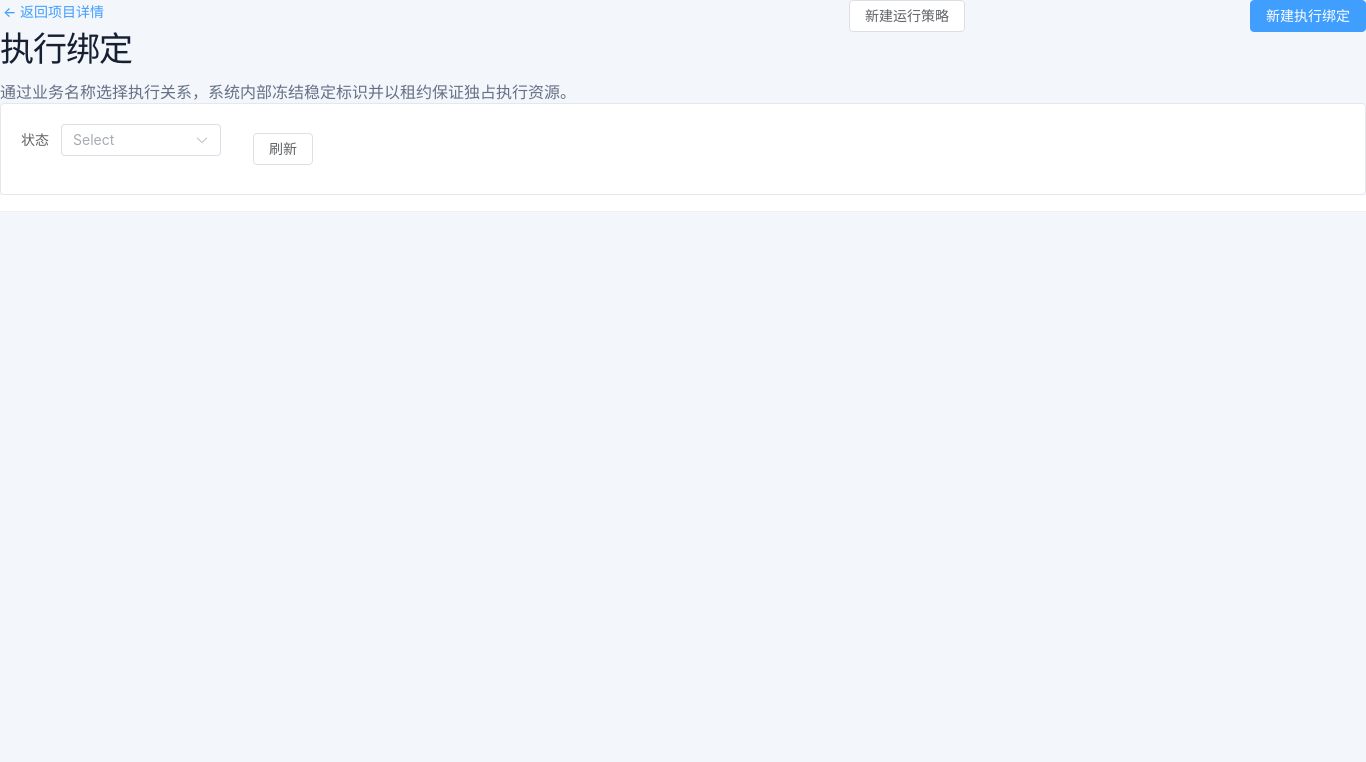
Test: Execution binding business UI › uses Chinese runtime-policy terminology
Step 1. Click the button "新建运行策略" → (907,16), box left=849, top=0, right=965, bottom=32
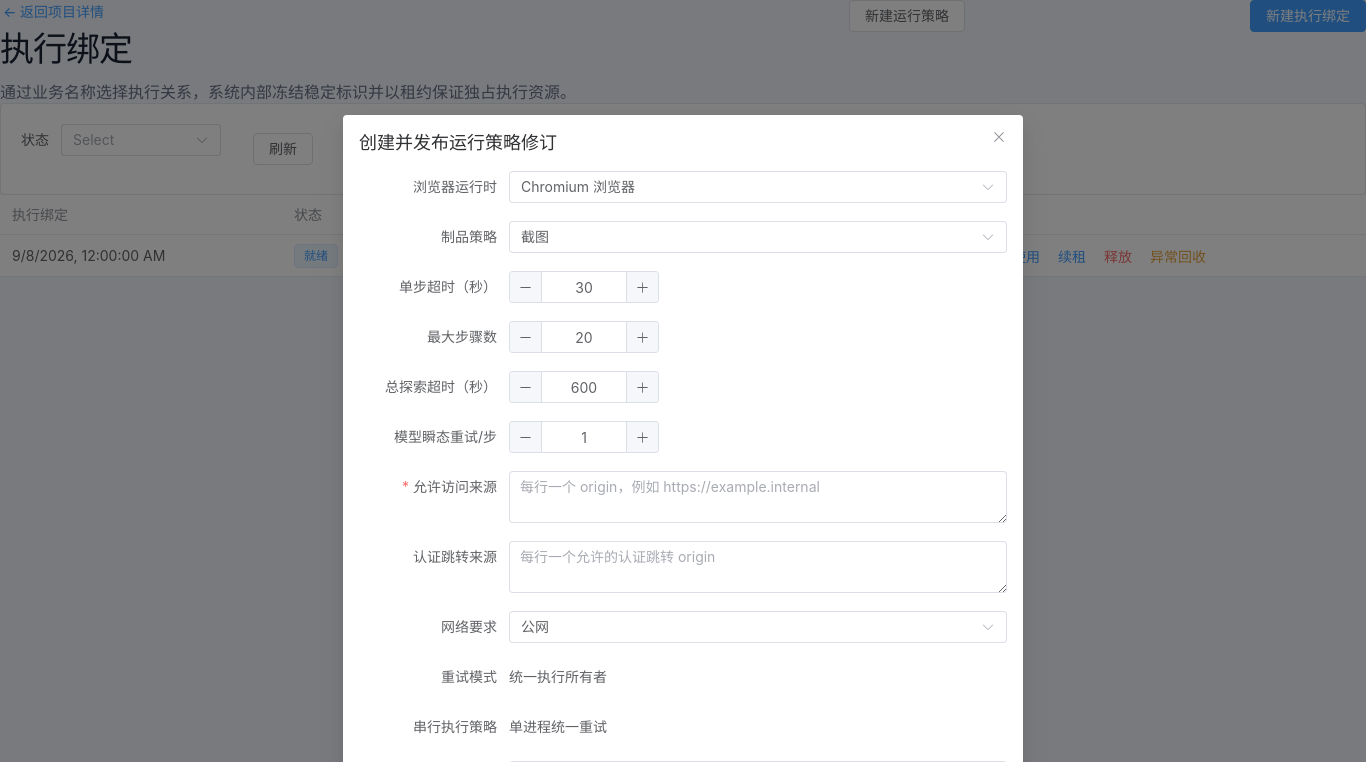
Result: the text "浏览器运行时" is shown at left=413, top=178, right=497, bottom=195
Result: the text "制品策略" is shown at left=441, top=228, right=497, bottom=245
Result: the text "网络要求" is shown at left=441, top=618, right=497, bottom=635
